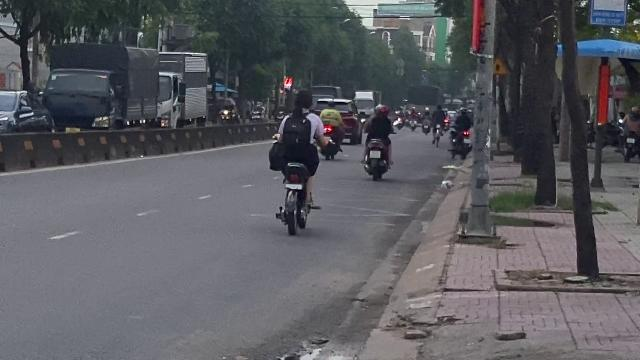motorcyclist: (268, 88, 326, 234)
nohelmet: (291, 88, 313, 112)
